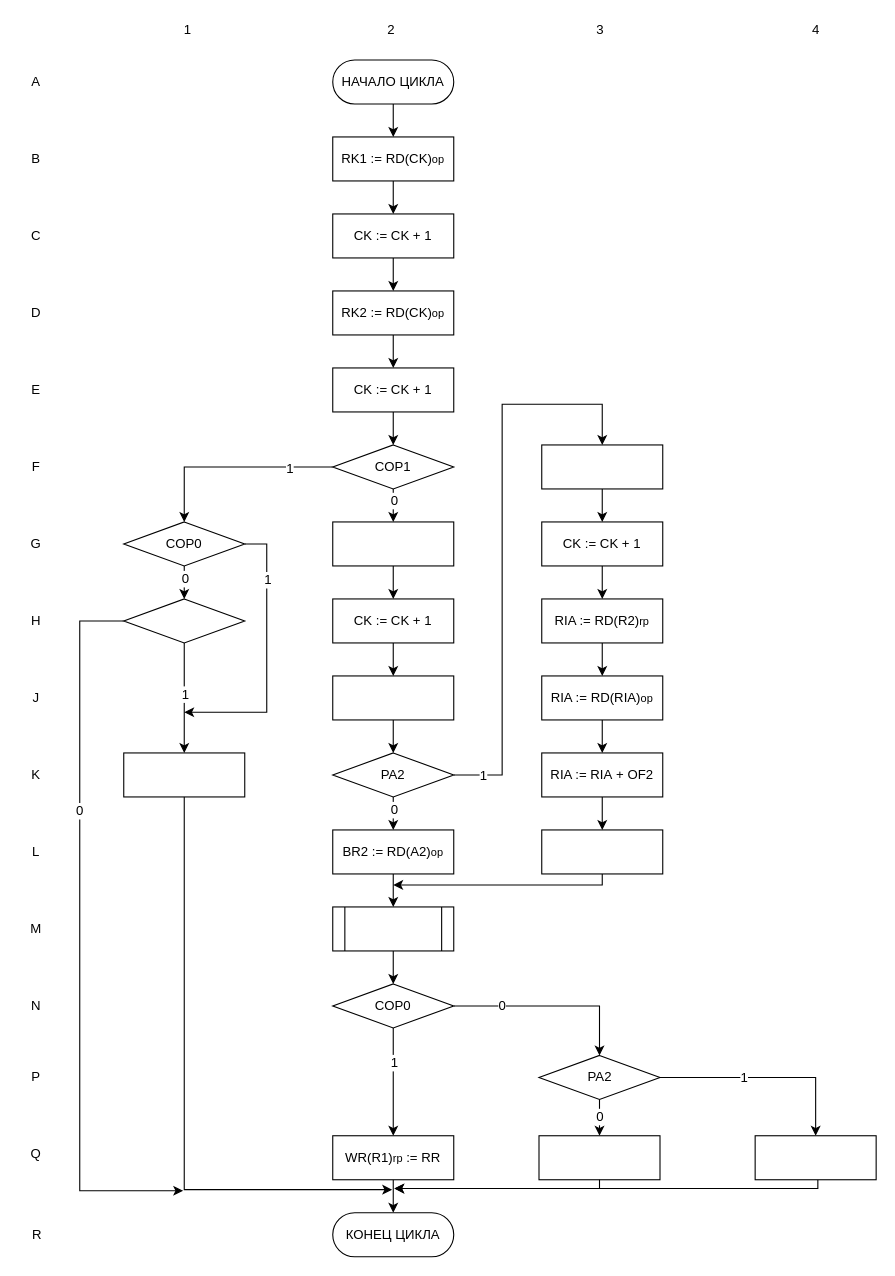
This 895x1276 diagram has some shape labels left out. Each missing label, with the centre of its shape:
"BR1 := RD(R1) rp" belongs at [393,697].
"BR2 := RD(RIA) op" belongs at [602,851].
"CK := CK + SM" belongs at [184,774].
"PR" belongs at [184,620].
"RK3 := RD(CK) op" belongs at [393,543].
"RK4 := RD(CK) op" belongs at [602,466].
"WR(A2) op := RR" belongs at [599,1157].
"WR(RIA) op := RR" belongs at [815,1157].
"Выполнение операции в АЛУ" belongs at [393,928].
